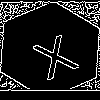X: (25, 25, 81, 81)
